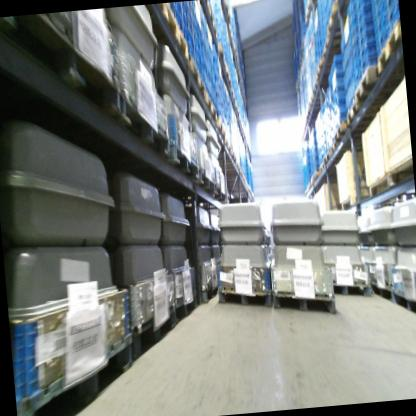pallet: (1, 8, 125, 130), (12, 330, 139, 416), (119, 92, 174, 162), (127, 300, 182, 359), (150, 4, 192, 70), (269, 284, 336, 324), (352, 62, 406, 106), (213, 285, 274, 316), (345, 92, 394, 130), (165, 134, 201, 185), (373, 21, 405, 75), (328, 281, 373, 306), (332, 116, 374, 142), (188, 56, 212, 100), (325, 1, 353, 36), (319, 32, 351, 62), (174, 294, 201, 328), (387, 289, 416, 320), (198, 281, 225, 310), (329, 138, 366, 159), (369, 280, 394, 306), (195, 165, 215, 197), (314, 53, 337, 79), (198, 94, 217, 124), (323, 148, 350, 169), (312, 76, 333, 101), (201, 5, 217, 35), (307, 91, 330, 111), (212, 182, 230, 205), (319, 160, 341, 177), (304, 0, 320, 23), (211, 116, 226, 139), (220, 162, 243, 175), (219, 151, 237, 166), (212, 44, 226, 63), (224, 63, 233, 88), (299, 37, 310, 57), (222, 1, 232, 22), (305, 177, 316, 194), (221, 136, 231, 153), (312, 169, 323, 184), (229, 41, 238, 58), (226, 24, 234, 43), (298, 55, 305, 73), (335, 0, 354, 6), (230, 88, 237, 104), (296, 73, 303, 86), (239, 170, 245, 183), (239, 122, 245, 134), (233, 103, 239, 115), (243, 179, 248, 192), (294, 84, 300, 92), (237, 115, 242, 124), (249, 187, 253, 195)
small_load_carrier: (353, 7, 376, 37), (372, 25, 391, 57), (355, 26, 376, 54), (173, 11, 189, 46), (372, 16, 388, 46), (353, 0, 373, 23), (358, 43, 378, 66), (384, 9, 400, 37), (348, 48, 362, 79), (384, 0, 400, 25), (350, 66, 364, 93), (330, 64, 346, 87), (374, 2, 387, 30), (330, 88, 348, 107), (174, 4, 188, 28), (330, 55, 343, 78), (208, 75, 217, 108), (362, 59, 378, 77), (348, 32, 361, 54), (201, 46, 210, 75), (333, 101, 348, 118), (345, 0, 356, 23), (201, 68, 210, 95), (198, 3, 207, 30), (372, 0, 384, 20), (212, 77, 222, 100), (187, 44, 197, 66), (192, 28, 203, 48), (192, 38, 202, 60), (192, 53, 204, 71), (208, 59, 215, 89), (353, 0, 372, 11), (213, 93, 222, 116), (347, 20, 358, 38), (189, 34, 198, 55), (200, 24, 207, 51), (214, 10, 223, 30), (187, 5, 195, 27), (187, 17, 196, 36), (206, 37, 213, 60), (206, 21, 213, 43), (217, 25, 224, 47), (220, 75, 227, 96), (195, 20, 202, 40), (212, 61, 219, 80), (221, 94, 229, 109), (213, 0, 222, 13), (212, 45, 218, 63), (221, 106, 228, 121), (196, 63, 203, 77)
